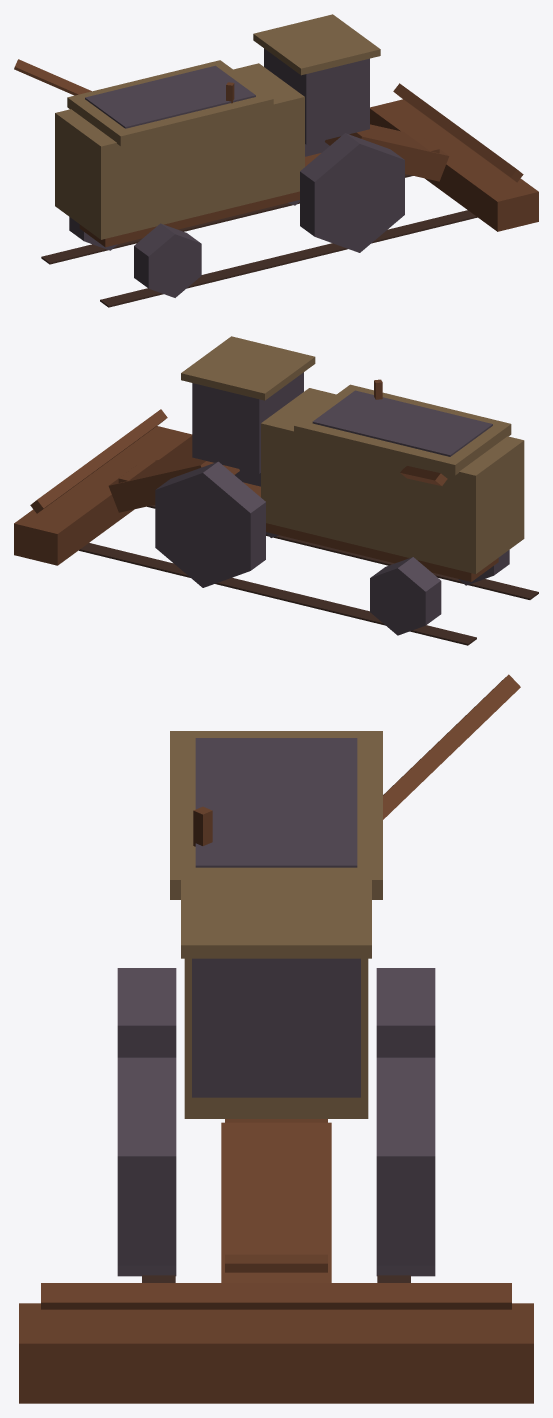
The picture shows the model from 3 angles, top to bottom: view 1: azimuth 30°, elevation 25°; view 2: azimuth 150°, elevation 25°; view 3: azimuth 270°, elevation 25°; orthographic projection. The views are drawn at different scales.
Parts seen in each view (by area): view 1: body; view 2: body; view 3: body.
Part boxes in pixels (x1,y1,x2,y2): body: (14, 14, 538, 307); body: (14, 336, 538, 645); body: (19, 674, 533, 1403).
Bounding box in the file's own units: 6.33 × 2.75 × 3.5.
